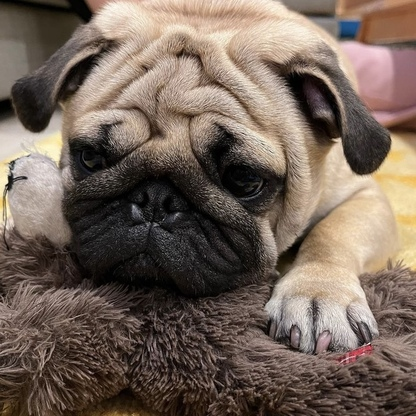Pug: (2, 1, 400, 361)
